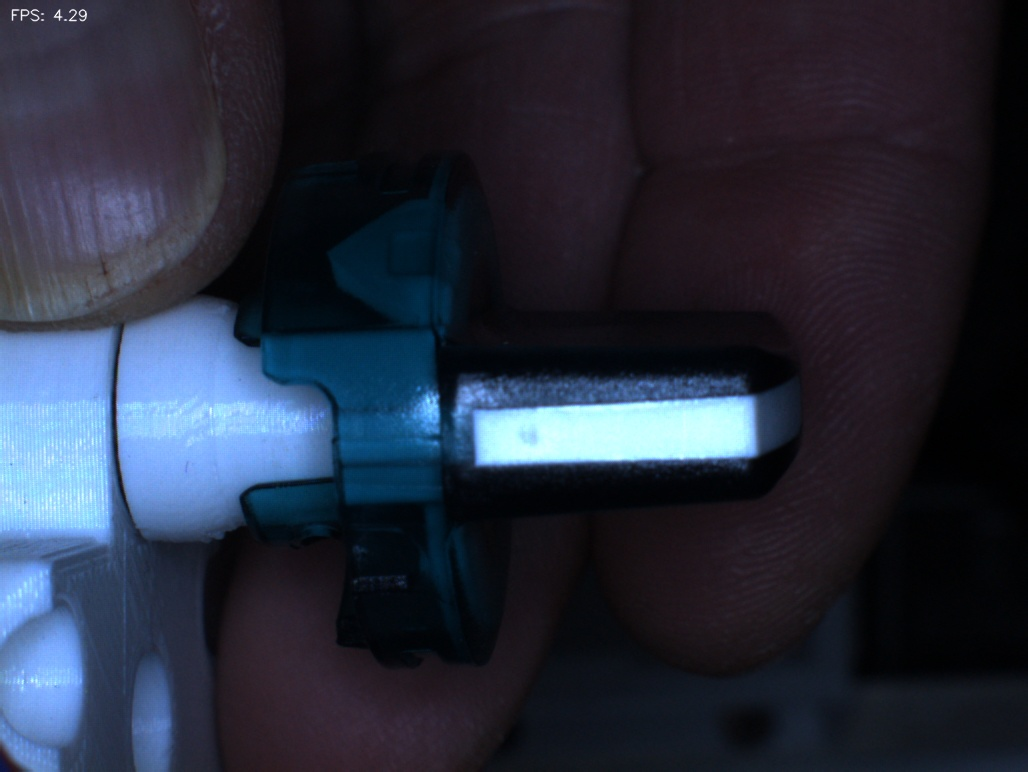DentOk: (287, 198, 381, 323)
